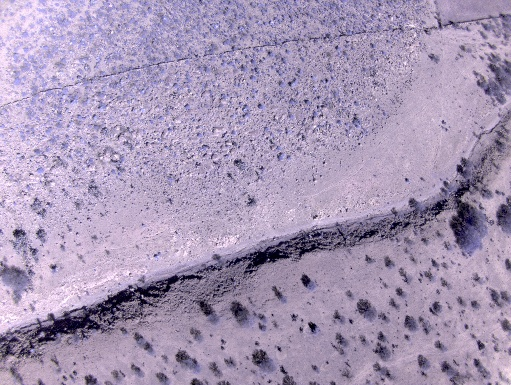agave: (66, 94, 80, 106), (352, 117, 363, 129), (243, 93, 257, 102), (289, 77, 299, 89), (96, 100, 106, 112), (198, 144, 211, 153), (238, 64, 251, 73), (33, 148, 44, 157), (247, 75, 259, 83), (197, 131, 207, 140), (222, 37, 231, 47), (220, 93, 231, 101), (237, 24, 246, 33), (257, 103, 267, 111), (287, 98, 297, 106), (303, 99, 313, 107), (287, 113, 297, 121), (277, 79, 287, 87), (241, 104, 251, 112), (232, 58, 242, 66), (241, 112, 252, 119), (286, 154, 294, 163), (263, 126, 272, 134), (183, 103, 192, 111), (157, 115, 166, 123), (311, 73, 319, 82), (35, 167, 45, 174), (266, 52, 277, 58), (278, 153, 286, 161), (285, 128, 293, 136), (249, 58, 257, 66), (299, 55, 307, 63), (227, 60, 235, 68), (275, 144, 284, 151), (129, 107, 138, 114), (297, 67, 304, 76), (335, 119, 343, 126), (269, 133, 277, 140), (231, 130, 239, 137), (172, 82, 179, 90), (220, 61, 227, 68), (231, 113, 238, 120), (369, 43, 377, 49), (91, 114, 98, 120), (336, 46, 342, 53), (282, 57, 288, 64), (140, 108, 146, 114), (285, 49, 291, 55), (312, 111, 319, 116), (166, 111, 172, 116)
